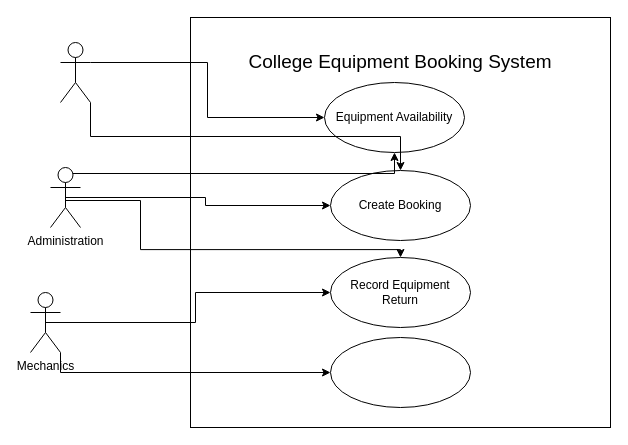
The diagram is 628 pixels wide and 445 high, and some of its shapes have lost their labels. Here are the shapes that lost their labels. From the top down, the centre of each, then its label:
At [75,72]: "Professors".
At [400,372]: "Work Around Facilities".
